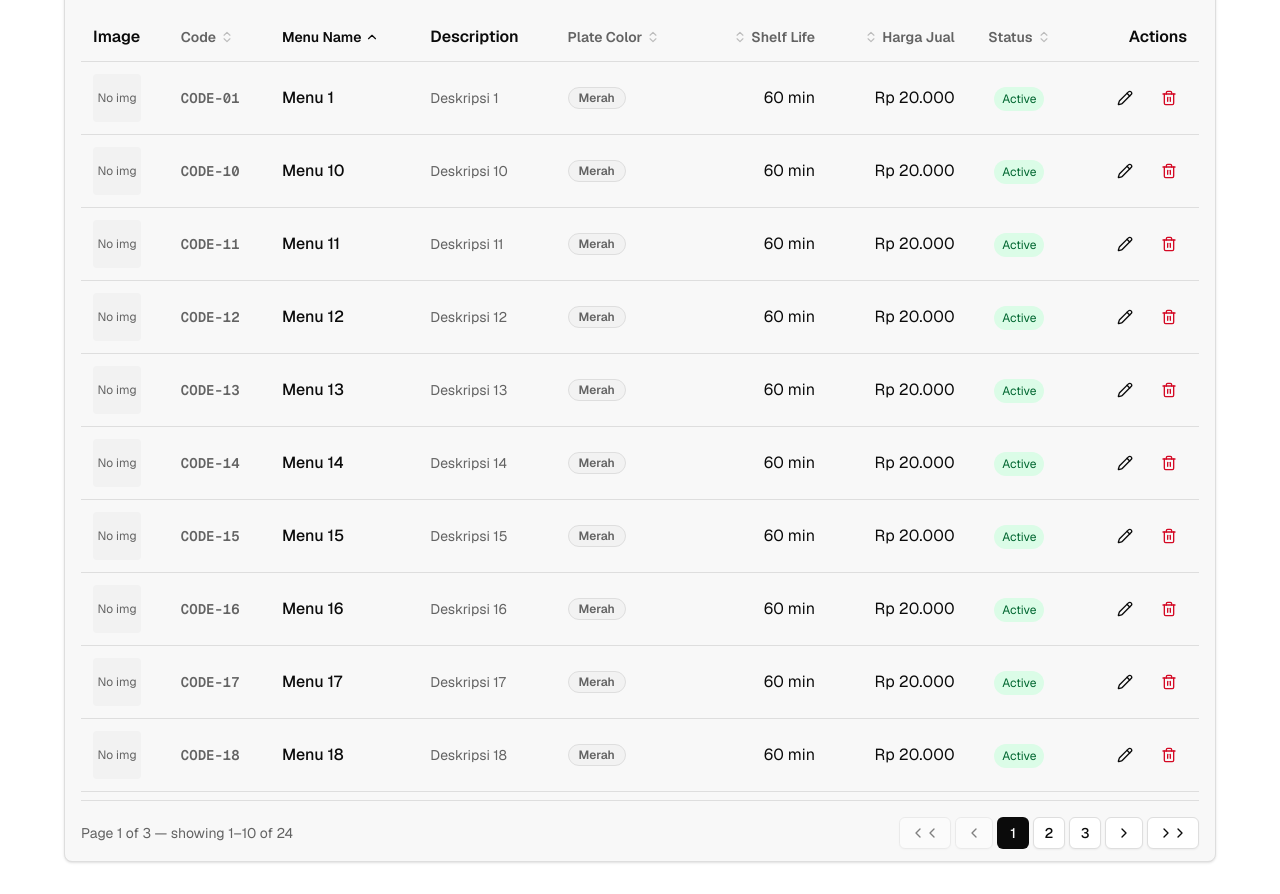
Test case: MenusAdmin — search › resets to page one when the query changes
The width and height of the screenshot is (1280, 894).
(page scrolled)
Note: Halaman 3 dari urutan teks berisi Menu 6–9.
Click the button "3": (1085, 833) [1069,817,1101,849]
(page scrolled)
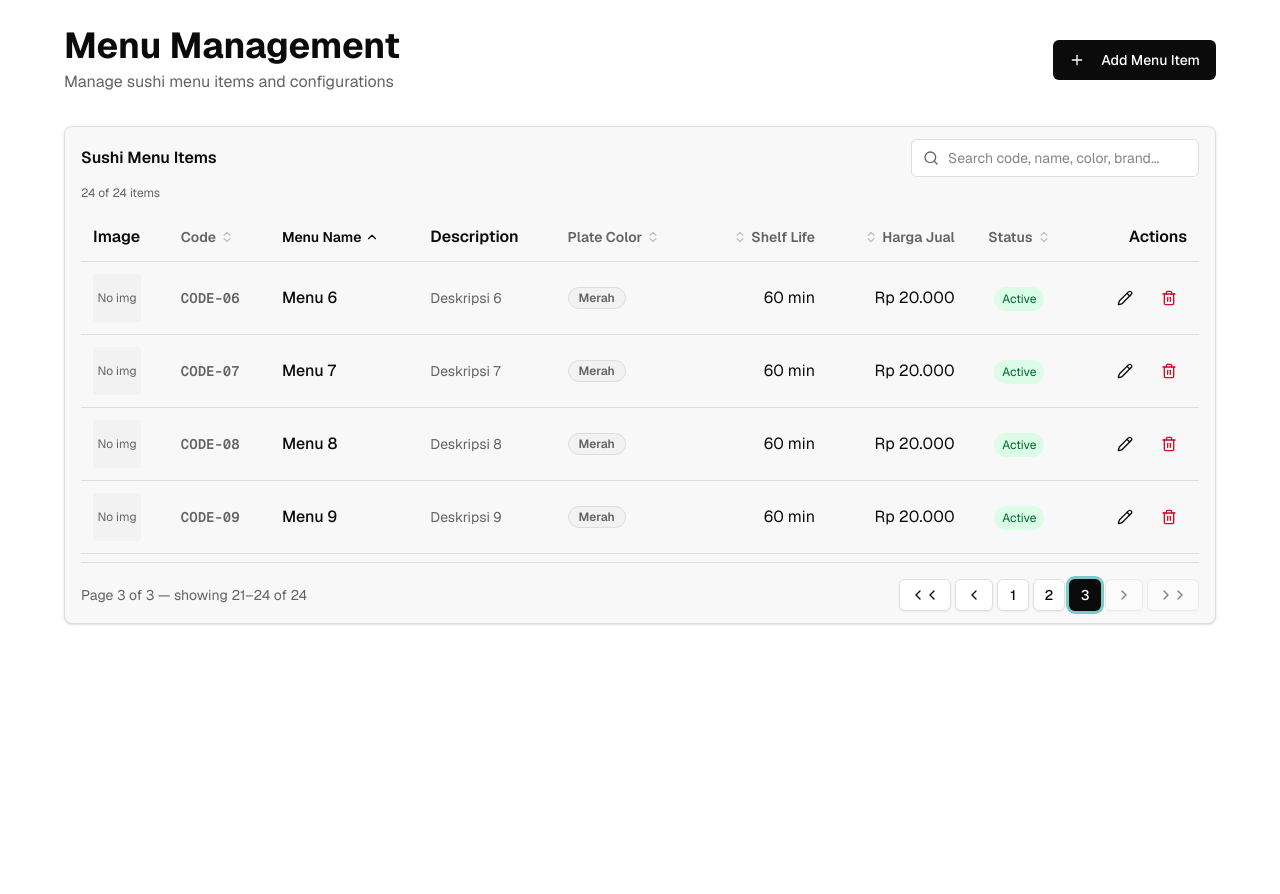
Result: the text "Menu 6" is shown at [270,262,418,334]
In the field with placeholder "Search code, name, color, brand...": (1055, 158) [911,139,1199,177], type "Menu 20"
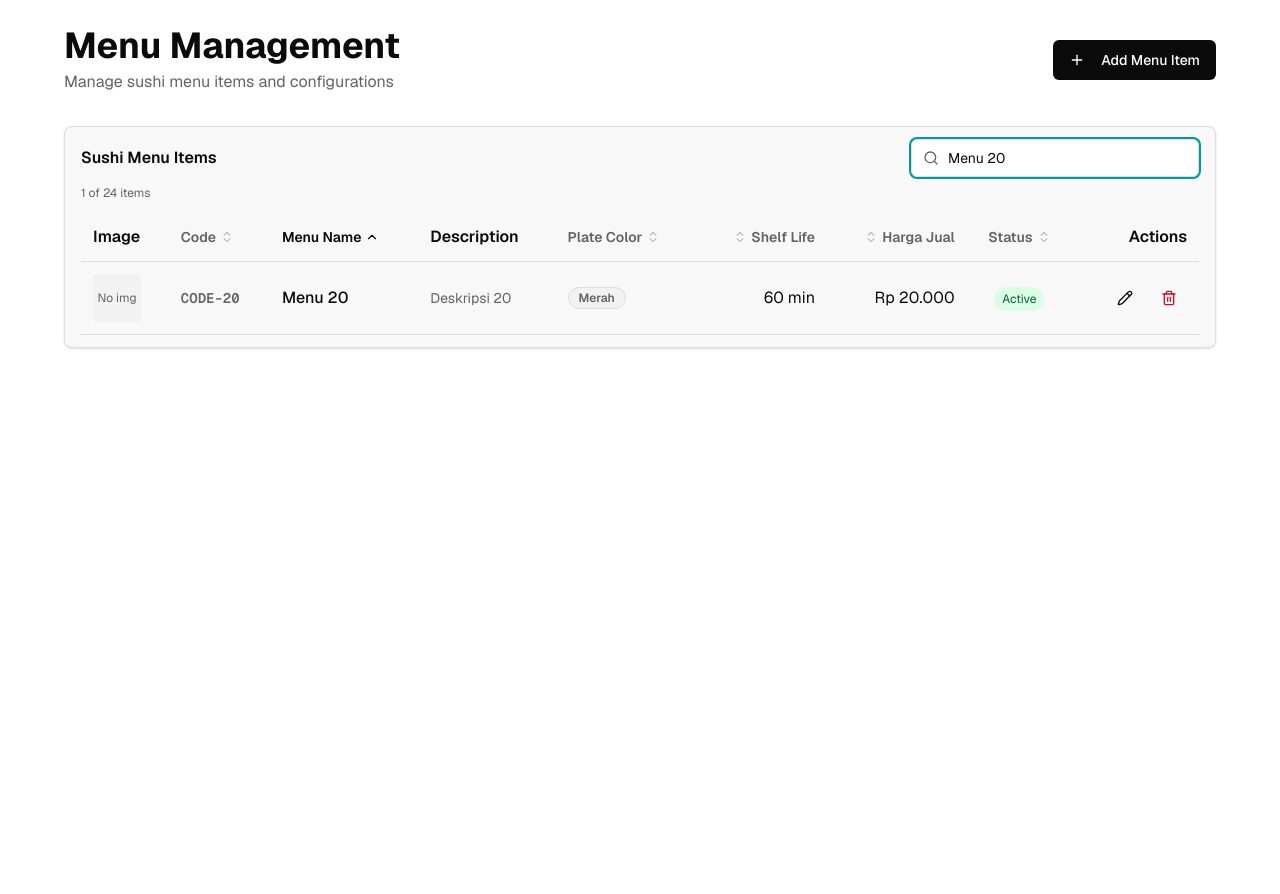
Result: the text "Menu 20" is shown at [270,262,418,334]
Result: the text "1 of 24 items" is shown at [81,185,150,201]
